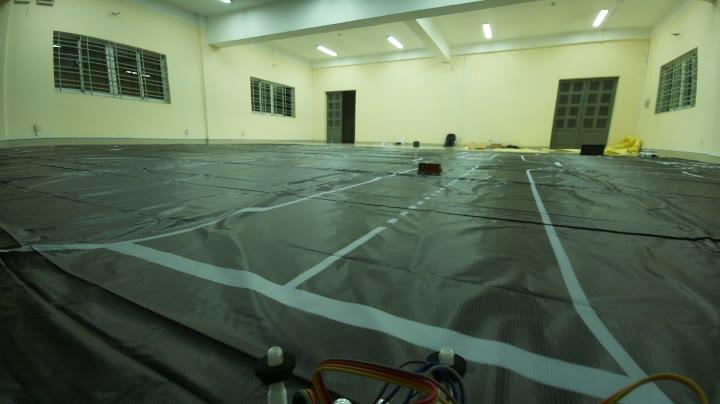roadblock: (415, 160, 447, 178)
